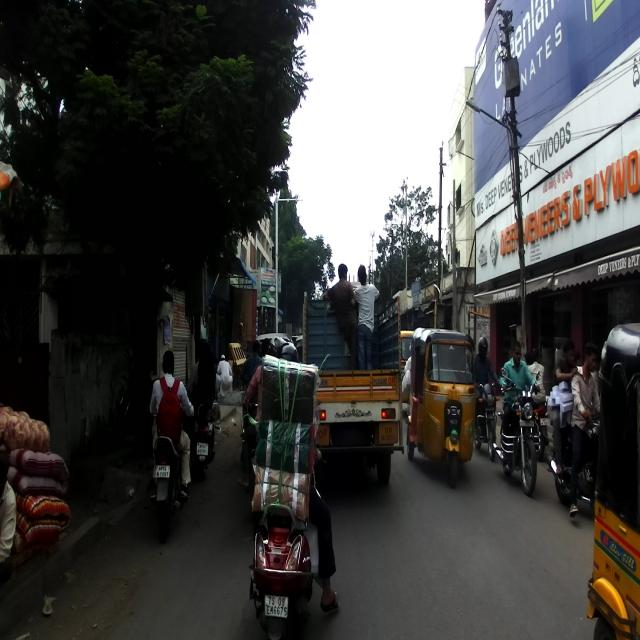autorickshaw: (583, 319, 639, 639), (405, 328, 476, 487)
motorcycle: (143, 408, 194, 538), (494, 367, 540, 496), (469, 381, 504, 460)
scooter: (248, 443, 325, 638), (186, 388, 220, 486)
truck: (300, 275, 402, 488)
